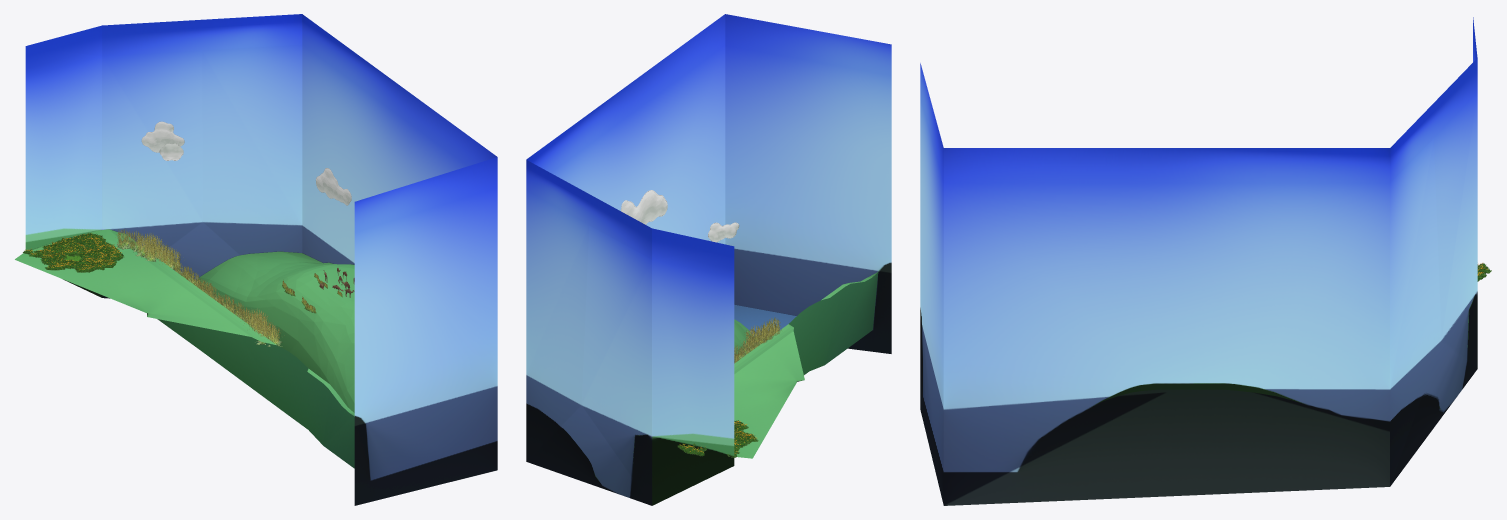
File: scene3end.glb
3 renders of one model, left to right at view 1: azimuth 30°, elevation 25°; view 2: azimuth 150°, elevation 25°; view 3: azimuth 270°, elevation 25°, orthographic. The views are drawn at different scales.
Visible parts, largest first — view 1: Land.scene3.end.001; view 2: Land.scene3.end.001; view 3: Land.scene3.end.001.
Boxes of the visible parts, bbox=[...] form: Land.scene3.end.001: bbox=[15, 14, 497, 505]; Land.scene3.end.001: bbox=[526, 14, 891, 505]; Land.scene3.end.001: bbox=[920, 17, 1491, 505].
Size of the model in its own units: 17.72 by 20.1 by 29.12.
Materials: 11 (11 with a texture image).
